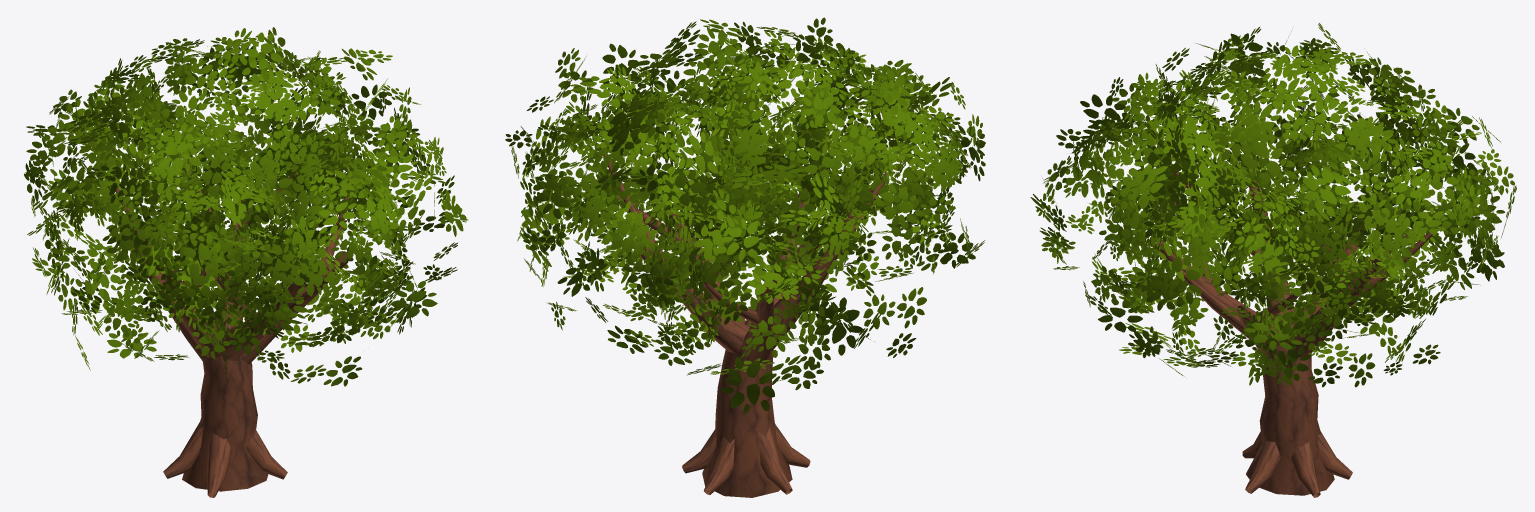
The model's file is oak.gltf.
3 views of the same model, side by side, from view 1: azimuth 30°, elevation 25°; view 2: azimuth 150°, elevation 25°; view 3: azimuth 270°, elevation 25° (orthographic). The views are drawn at different scales.
Parts seen in each view (by area): view 1: oak; view 2: oak; view 3: oak.
Boxes of the visible parts, box(x1,y1,x2,y2) form: oak: box(24, 27, 468, 497); oak: box(505, 17, 985, 497); oak: box(1030, 23, 1516, 497).
Bounding box in the file's own units: 8.76 × 9.18 × 9.32.
2 materials, 2 textured.
